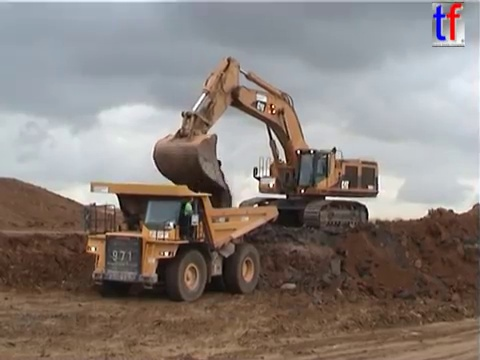excavator: (150, 54, 383, 236)
truck: (82, 179, 280, 303), (422, 207, 444, 224)
worker: (180, 194, 195, 238)
